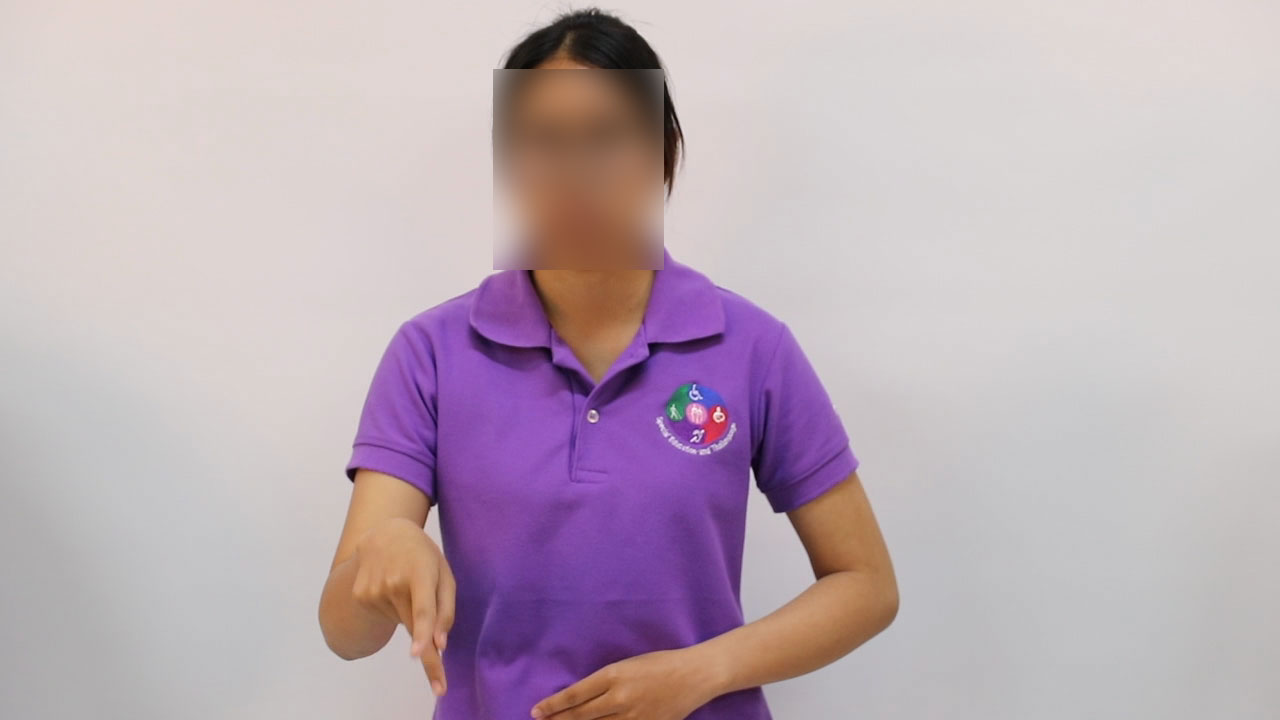por: (345, 509, 472, 706)
